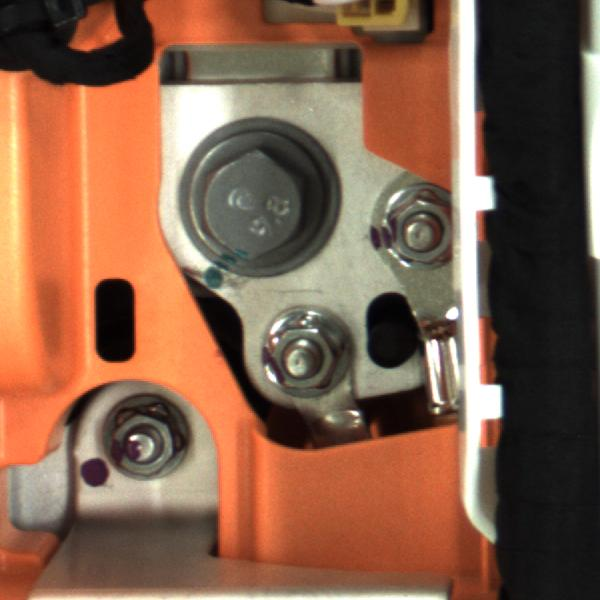nut_b: (168, 124, 334, 271)
screw_s: (242, 298, 367, 399), (371, 182, 464, 280), (97, 396, 202, 480)
